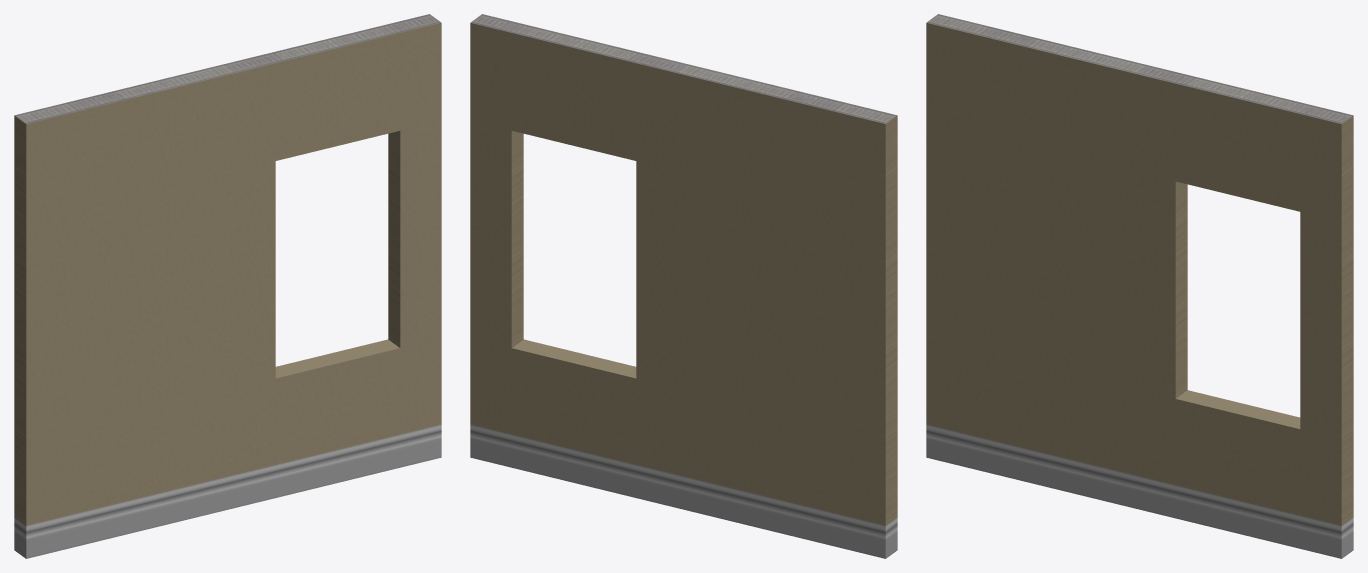
File: wall1_7.fbx
3 views of the same model, side by side, from view 1: azimuth 30°, elevation 25°; view 2: azimuth 150°, elevation 25°; view 3: azimuth 330°, elevation 25° (orthographic).
Parts seen in each view (by area): view 1: wall1_yellow_g; view 2: wall1_yellow_g; view 3: wall1_yellow_g.
Boxes of the visible parts, x1,y1,x2,y2 form: wall1_yellow_g: [14, 14, 441, 558]; wall1_yellow_g: [470, 14, 897, 558]; wall1_yellow_g: [926, 14, 1353, 558].
Bounding box in the file's own units: 400 × 400 × 20.
